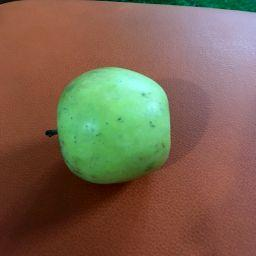apple: (28, 48, 188, 191)
